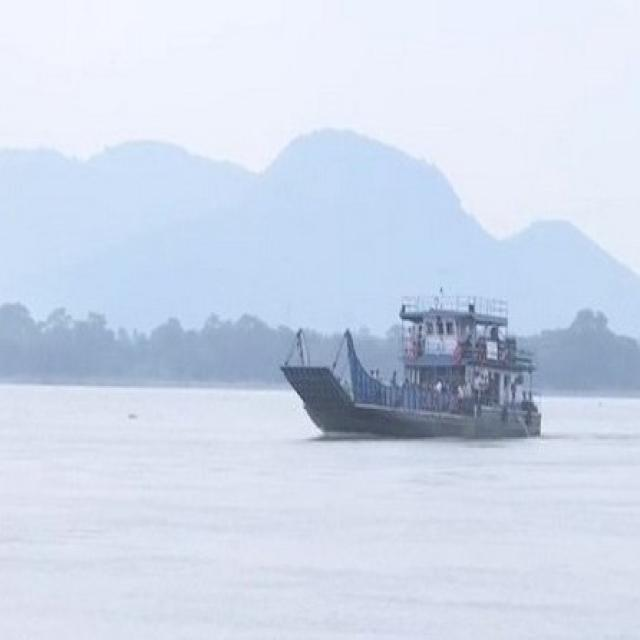fishing boat: (269, 290, 537, 443)
